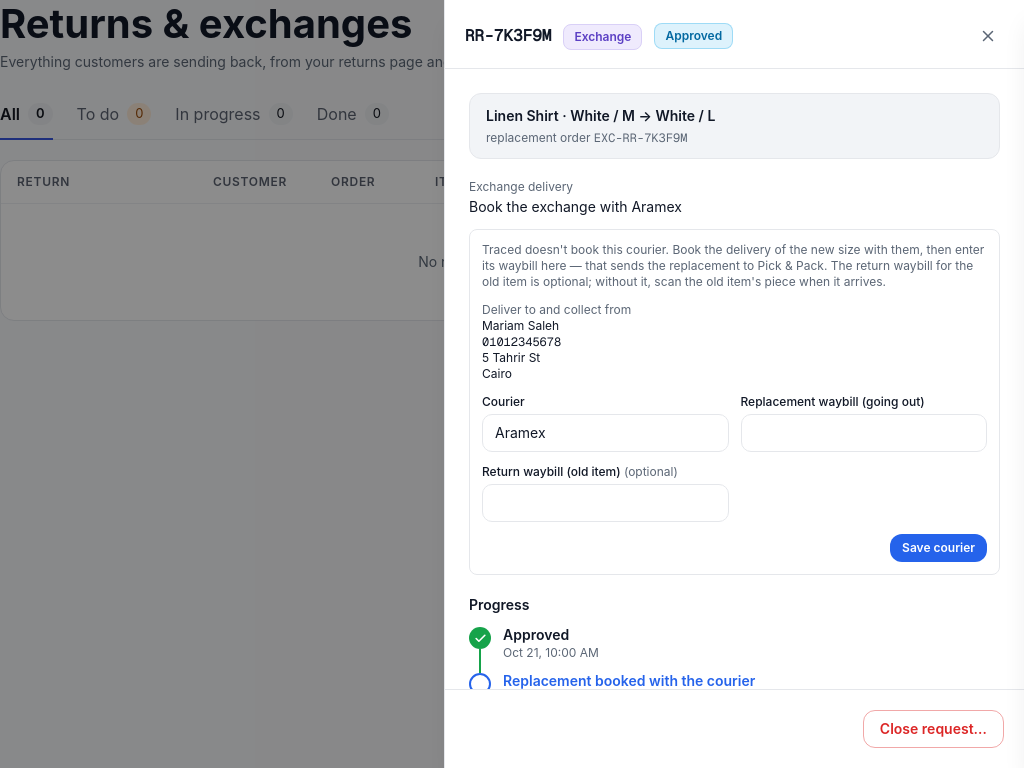
Test: Drawer — Book the exchange with <carrier> › the same number both ways is refused with the server message
The width and height of the screenshot is (1024, 768).
Expected: the element with test id "exchange-manual" is shown, top-left (469, 179), bottom-right (1000, 575)
Step 1. Type "AR-X" into the field labelled "Replacement waybill (going out)" → [864, 433], box top-left (740, 414), bottom-right (987, 452)
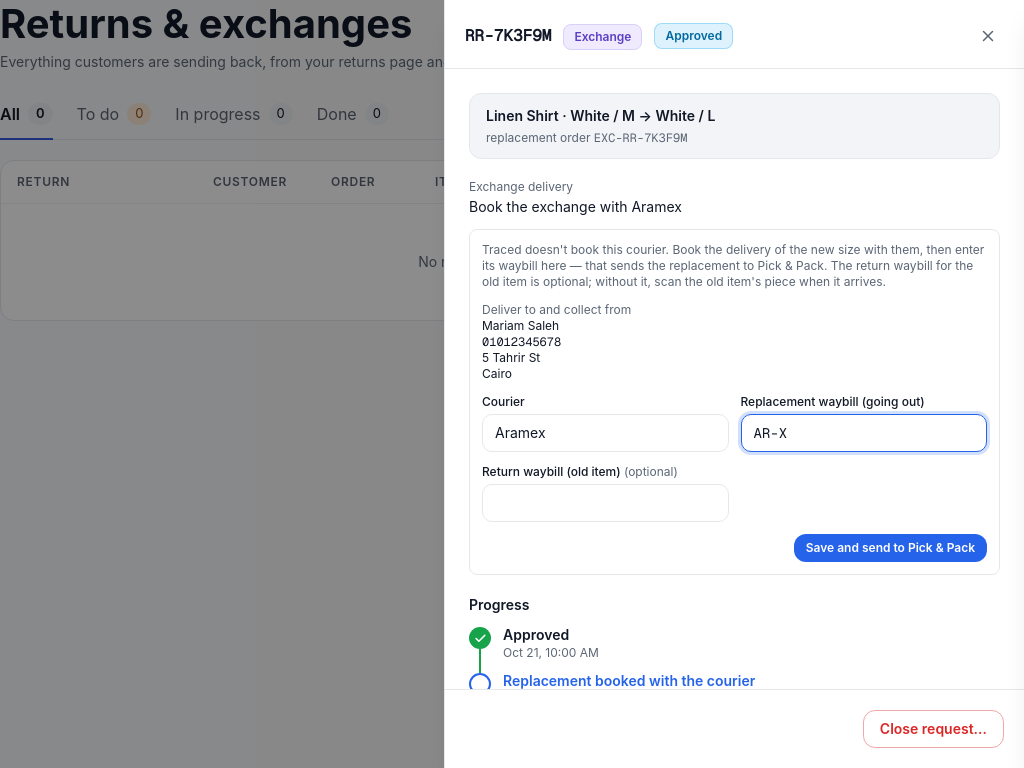
Step 2. Type "AR-X" into the field labelled "Return waybill (old item) (optional)" → [605, 503], box top-left (482, 484), bottom-right (728, 522)
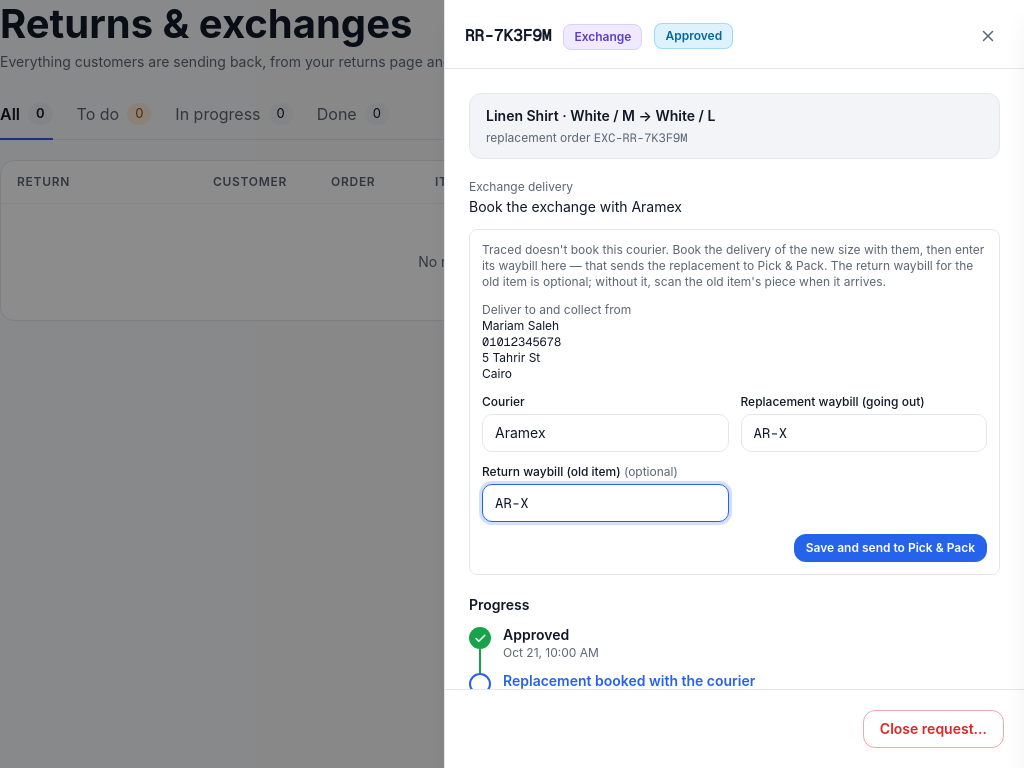
Step 3. Click the button "Save and send to Pick & Pack" → [890, 548], box top-left (794, 534), bottom-right (987, 562)
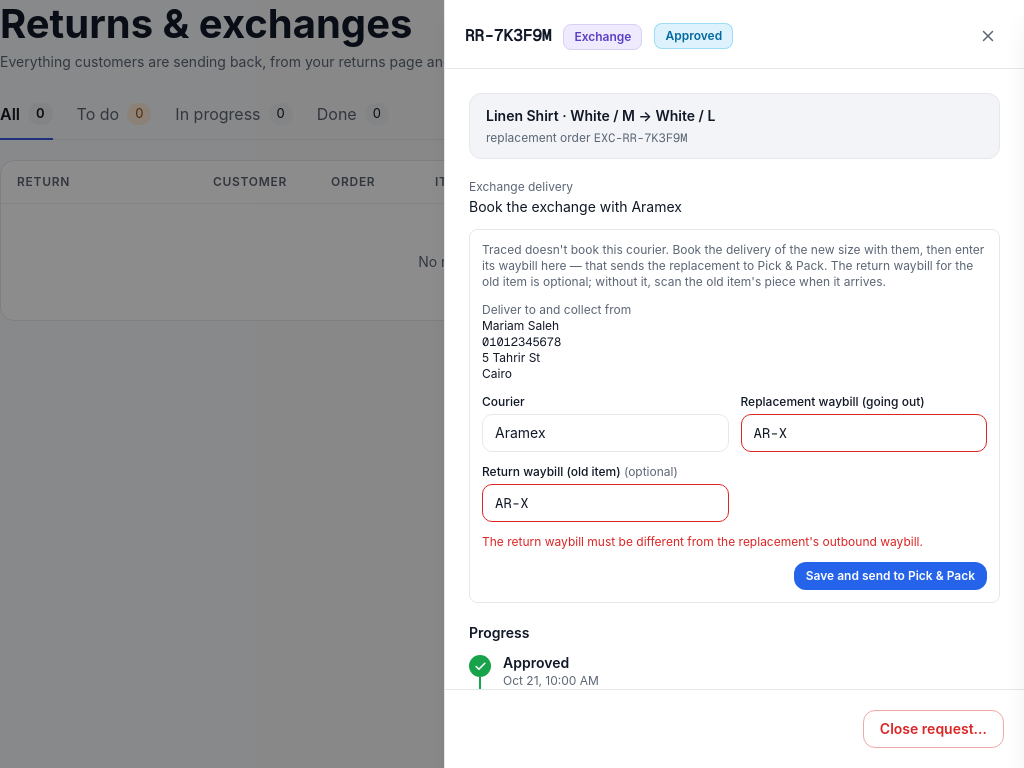
Result: the message with test id "manual-courier-error" shows "must be different" at top-left (482, 534), bottom-right (923, 549)
